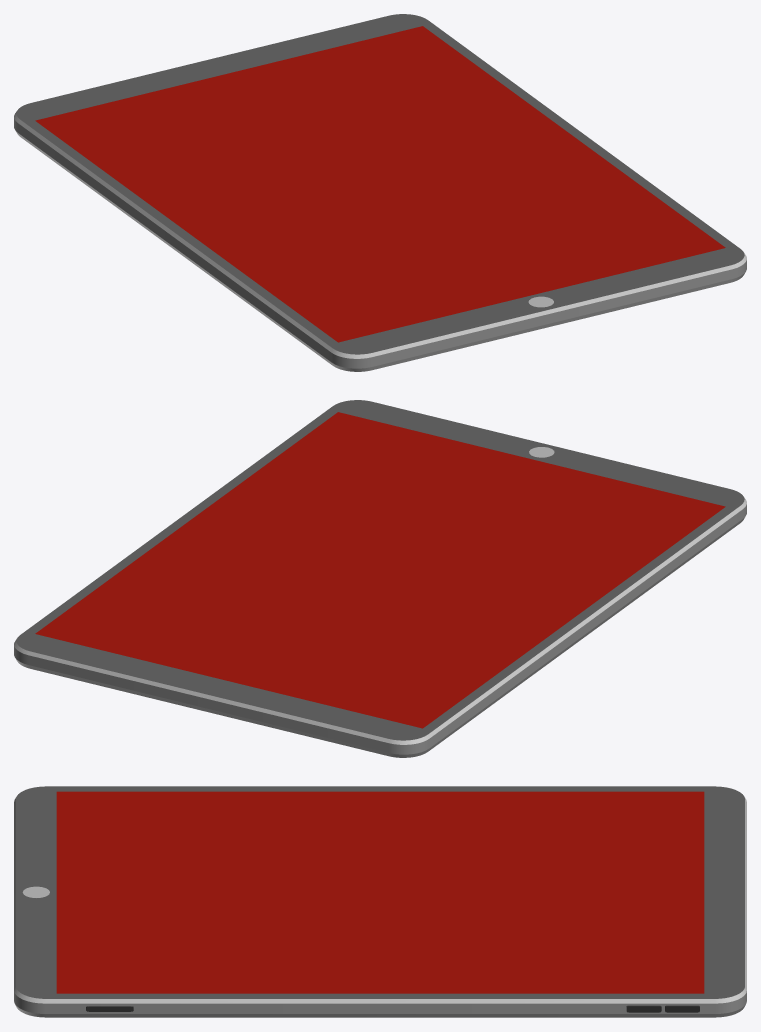
Rendered from prop_tablet.fbx.
3 views of the same model, one above another, from view 1: azimuth 30°, elevation 25°; view 2: azimuth 150°, elevation 25°; view 3: azimuth 270°, elevation 25° (orthographic). The views are drawn at different scales.
Parts seen in each view (by area): view 1: tablet; view 2: tablet; view 3: tablet.
Part boxes in pixels (x1,y1,x2,y2): tablet: (14, 14, 746, 371); tablet: (14, 400, 746, 757); tablet: (14, 786, 746, 1017).
Bounding box in the file's own units: 25.77 × 1.05 × 37.12.
